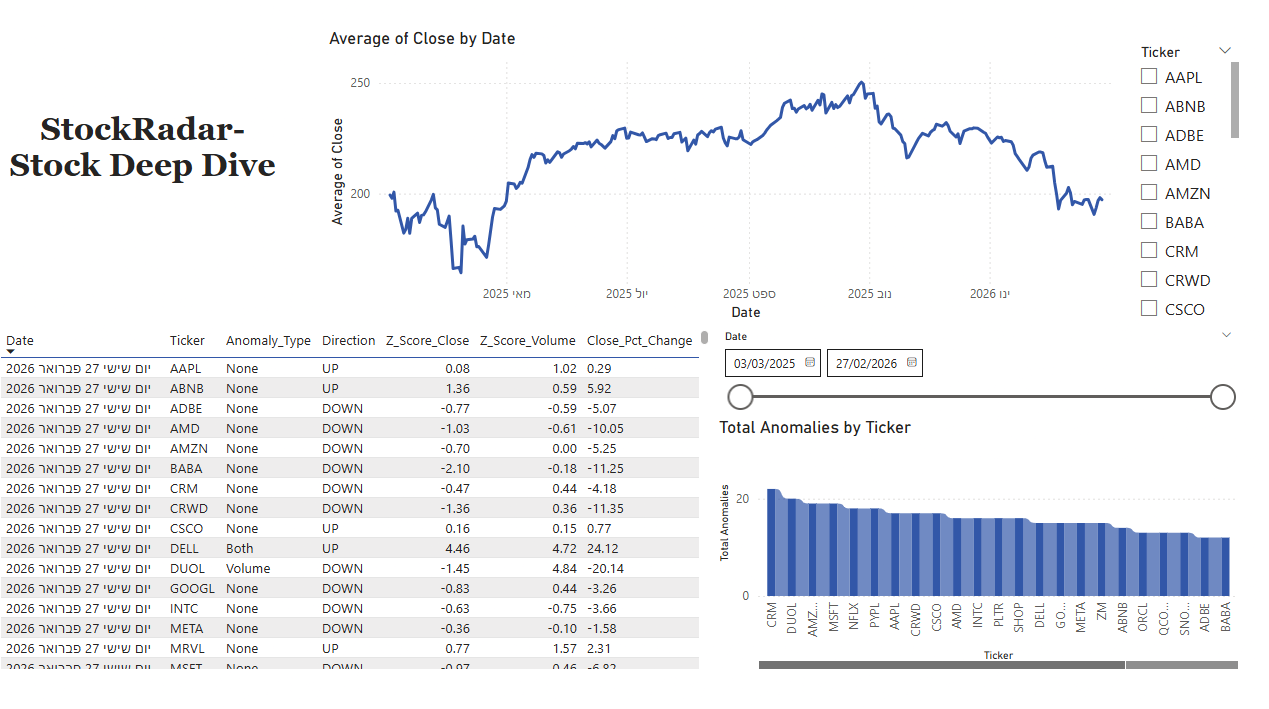

The page's visual inventory and layout, read from the dashboard file:
{"tool":"powerbi","page":{"name":"Stock Deep Dive","canvas":[1280,720],"ordinal":1},"visuals":[{"type":"slicer","fields":{"Values":["anomaly_results.Ticker"]},"box":[788.9,24.5,116.1,297.4],"z":0},{"type":"tableEx","fields":{"Values":["anomaly_results.Date","anomaly_results.Ticker","anomaly_results.Anomaly_Type","anomaly_results.Direction","anomaly_results.Z_Score_Close","anomaly_results.Z_Score_Volume","anomaly_results.Close_Pct_Change"]},"box":[245.7,336.4,845.1,349.1],"z":1000},{"type":"lineChart","fields":{"Category":["anomaly_results.Date"],"Y":["Avg(anomaly_results.Close)"]},"box":[263,24.5,496,297.4],"z":2000}]}

Visuals, with their boxes in screenshot pixels (x1, y1, x2, y2), scaled from the page's 1280x720 canvas onto the 1269x709 screenshot:
slicer - anomaly_results.Ticker: Rect(782, 24, 897, 317)
tableEx - anomaly_results.Date x anomaly_results.Ticker: Rect(244, 331, 1081, 675)
lineChart - anomaly_results.Date x Avg(anomaly_results.Close): Rect(261, 24, 752, 317)
